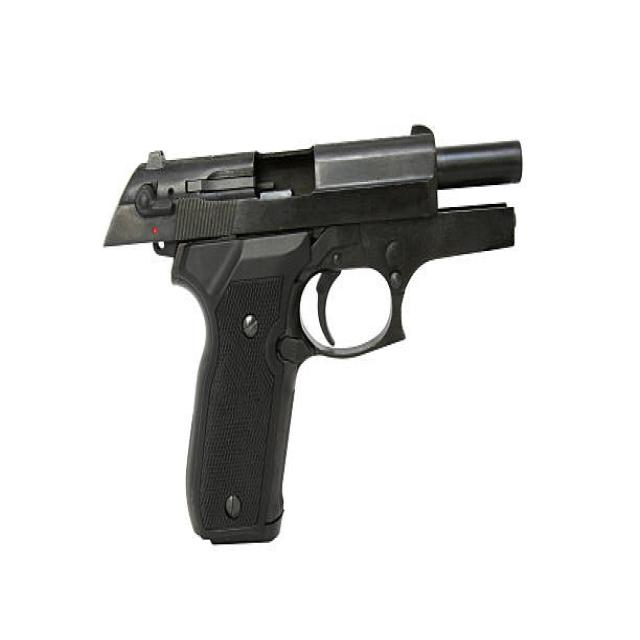pistol: (100, 119, 527, 560)
